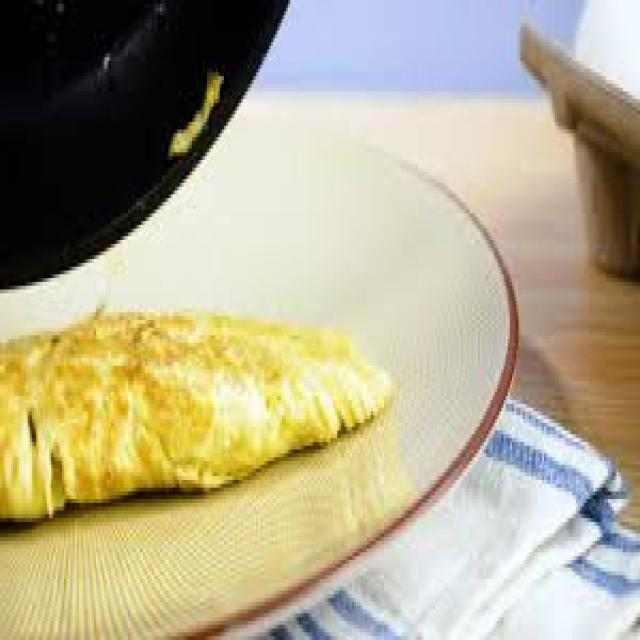telur_ayam_dadar: (2, 305, 395, 522)
